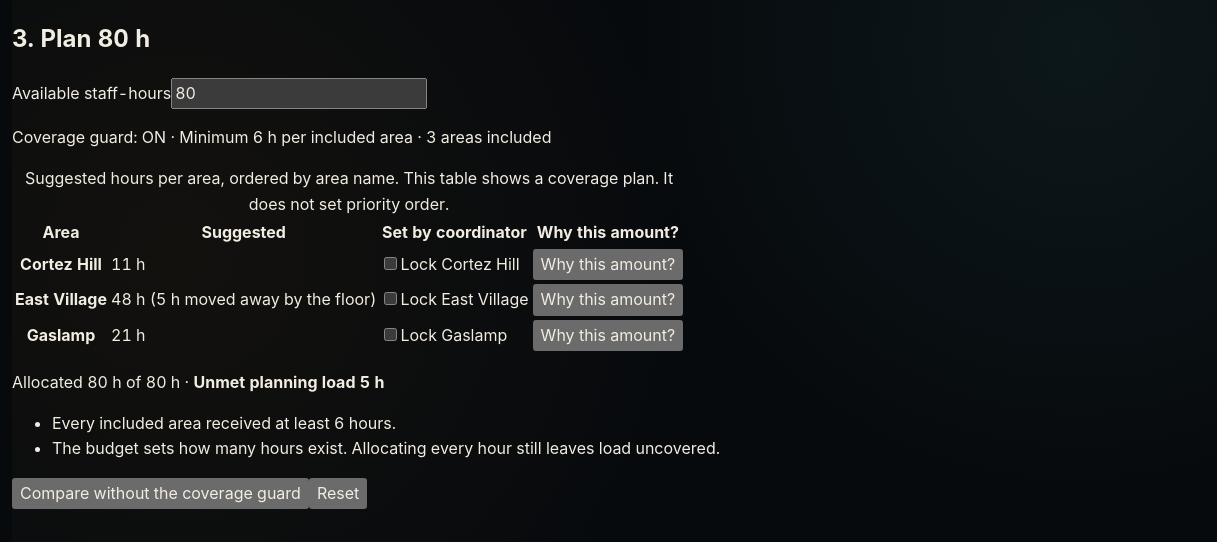
Test: locks and overrides › preserves a locked assignment and discloses that a human set it
Click the checkbox labelled "Lock Gaslamp": {"x": 391, "y": 334} x1=384 y1=328 x2=397 y2=341
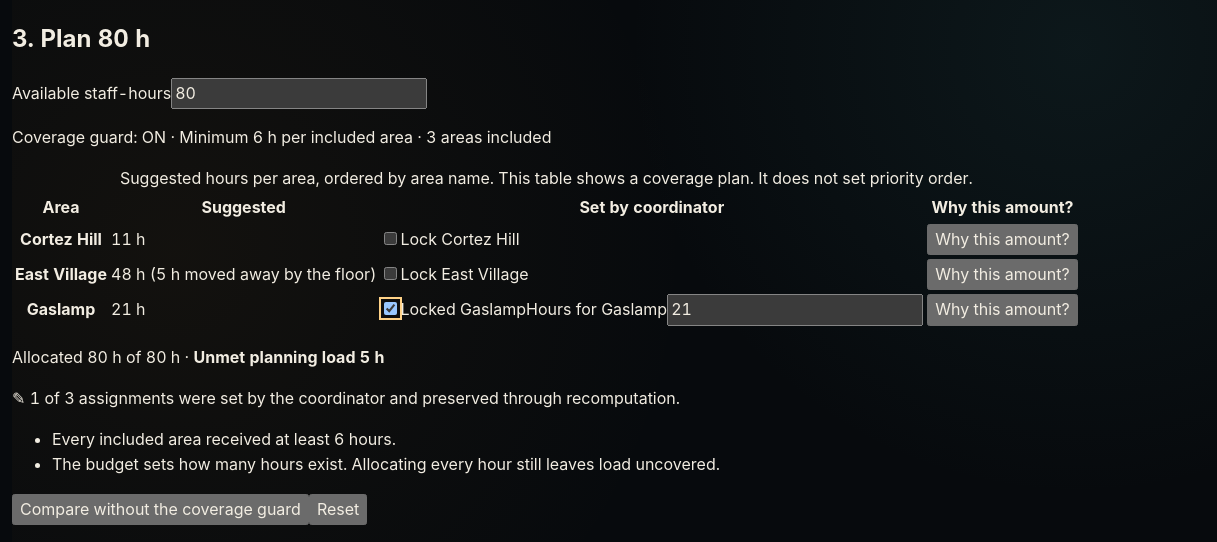
Check: the text "1 of 3 assignments were set by the coordinator" is shown once, box x1=12 y1=388 x2=680 y2=408
